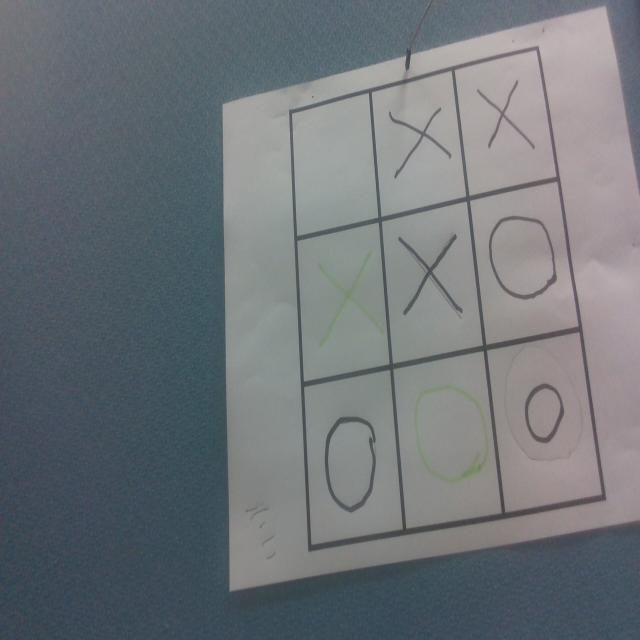null: (294, 94, 378, 237)
o: (415, 382, 496, 483), (489, 211, 557, 300), (324, 414, 378, 512), (524, 381, 565, 444)
table: (292, 46, 611, 556)
x: (317, 253, 386, 347), (402, 233, 460, 320), (391, 105, 450, 176), (479, 83, 535, 154)
